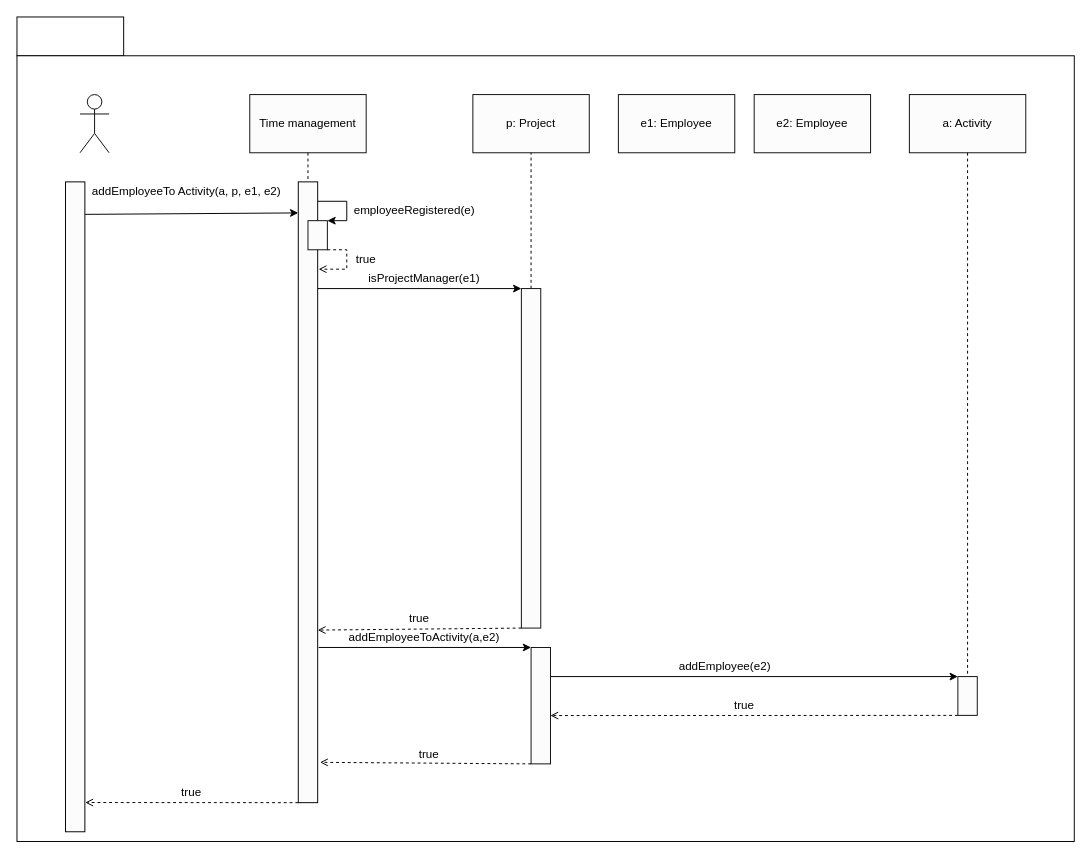
This 1091x858 diagram has some shape labels left out. Here are the shapes that lost their labels. From the top down, the centre of each, then its label:
the point at 70,36: Add employee to activity
the point at 94,123: Employee
